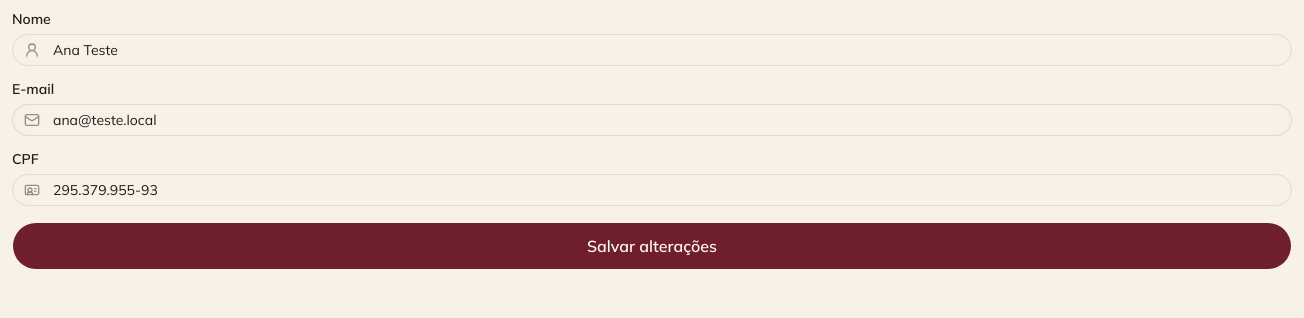
it: ProfileForm › shows a validation error when the name is cleared
Clear the field labelled "Nome" at coordinates (652, 50), box [12, 34, 1292, 66]
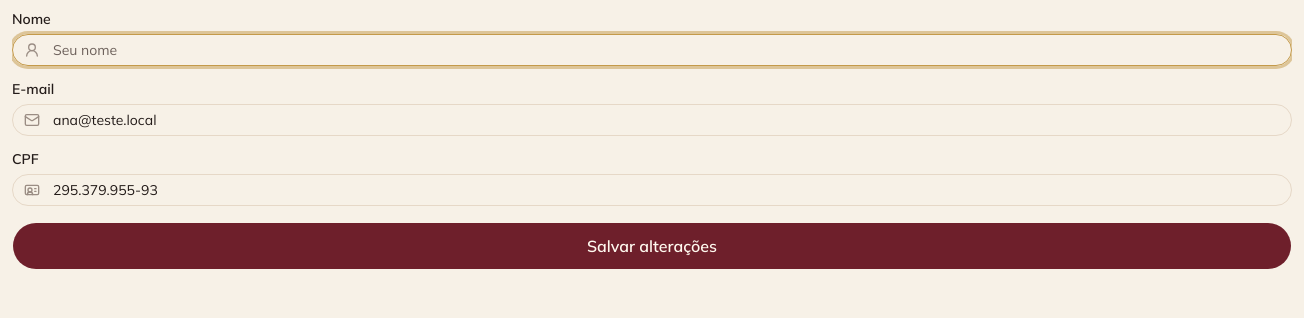
Click the button "Salvar alterações" at coordinates (652, 246), box [12, 222, 1292, 270]
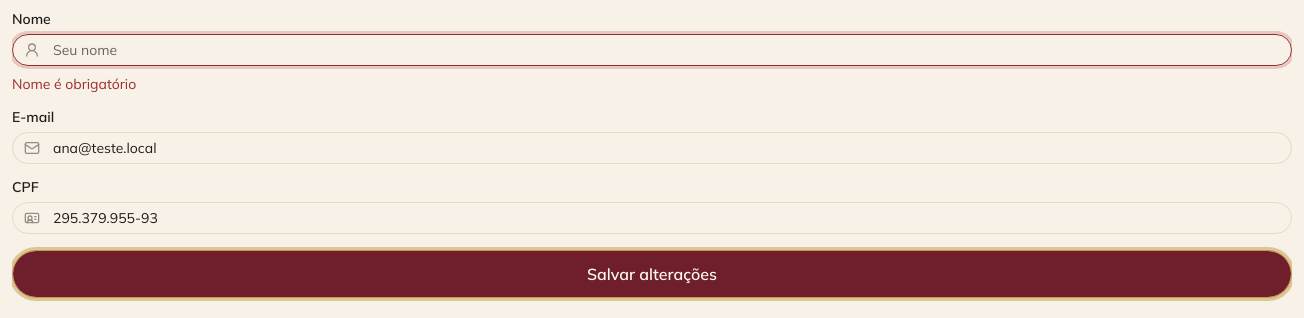
Check: the text "Nome é obrigatório" is shown, box [12, 75, 136, 93]
